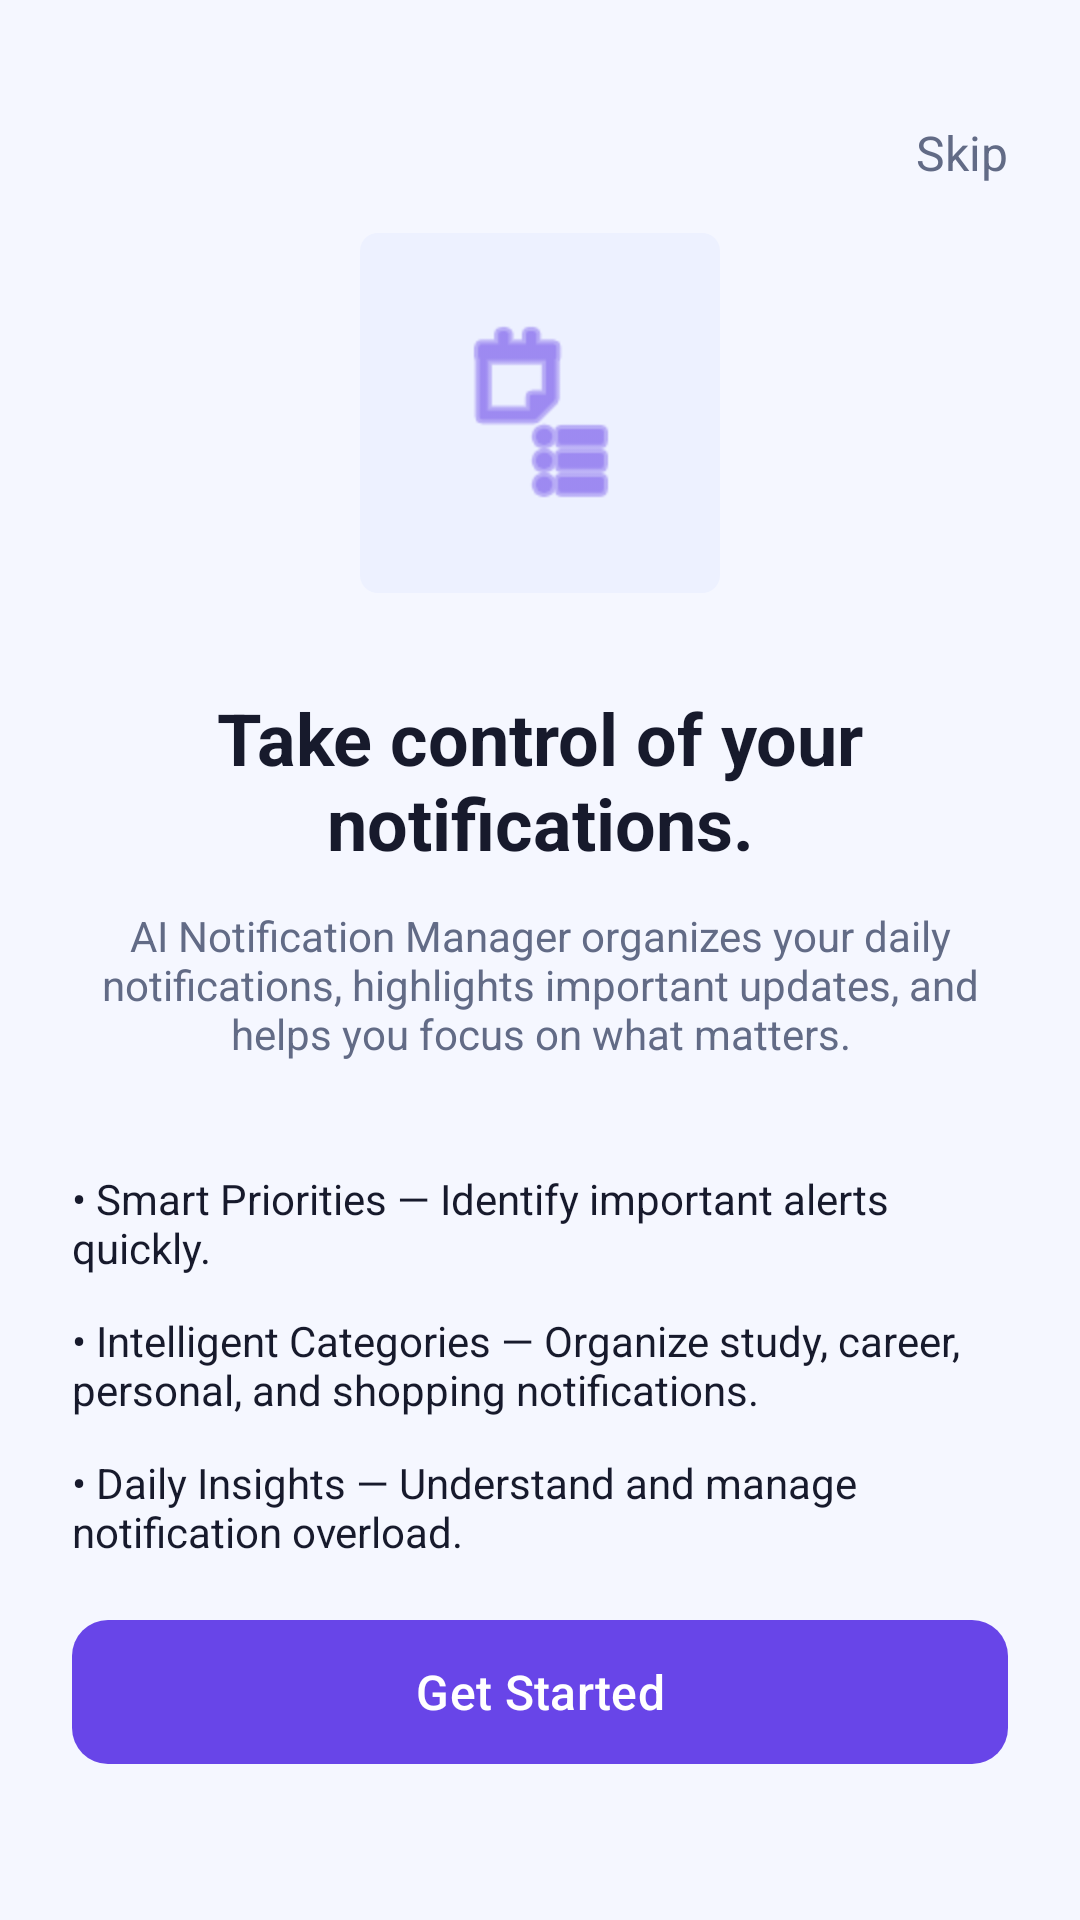

Icon bounding boxes for this 1080 × 1920 phone screenshot, format (x1, y1, x2, y2):
agenda: (474, 327, 608, 497)
